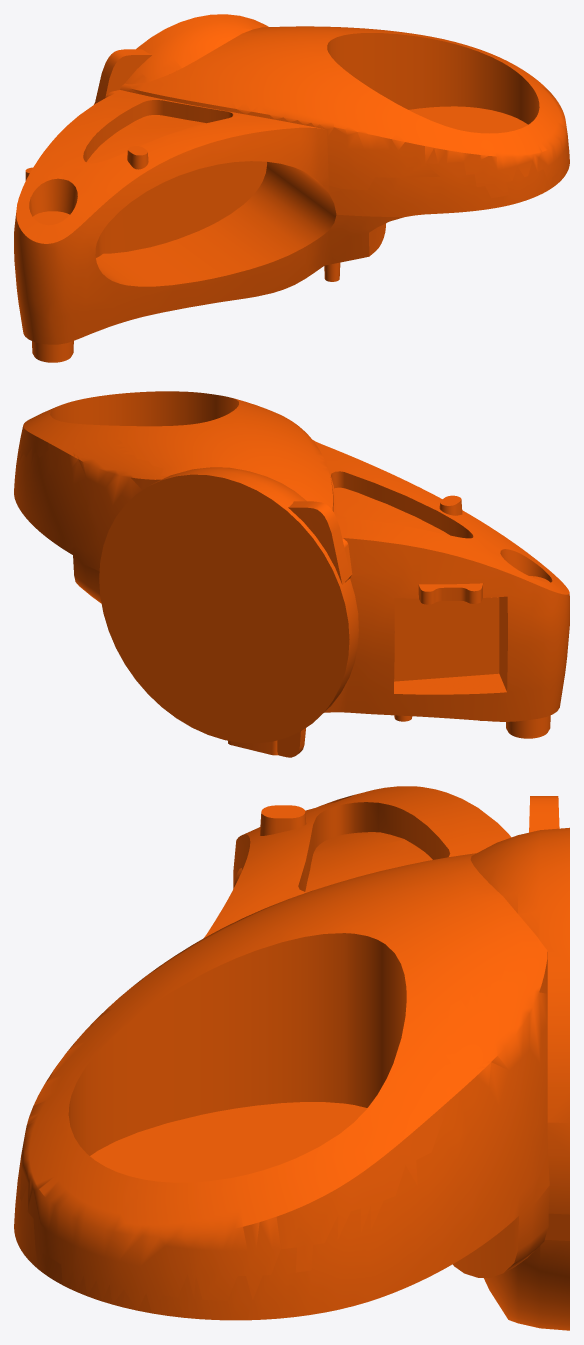
3 views of the same model, one above another, from view 1: azimuth 30°, elevation 25°; view 2: azimuth 150°, elevation 25°; view 3: azimuth 270°, elevation 25° (orthographic). The views are drawn at different scales.
Parts seen in each view (by area): view 1: prd00000005_oNWWNOk+++++3++-ID+HN_explode_1; view 2: prd00000005_oNWWNOk+++++3++-ID+HN_explode_1; view 3: prd00000005_oNWWNOk+++++3++-ID+HN_explode_1.
Boxes of the visible parts, left/top/right/bottom form: prd00000005_oNWWNOk+++++3++-ID+HN_explode_1: left=14, top=14, right=569, bottom=362; prd00000005_oNWWNOk+++++3++-ID+HN_explode_1: left=14, top=391, right=569, bottom=757; prd00000005_oNWWNOk+++++3++-ID+HN_explode_1: left=14, top=786, right=569, bottom=1330.
Size of the model in its own units: 1.08 by 0.4989 by 0.5408.
